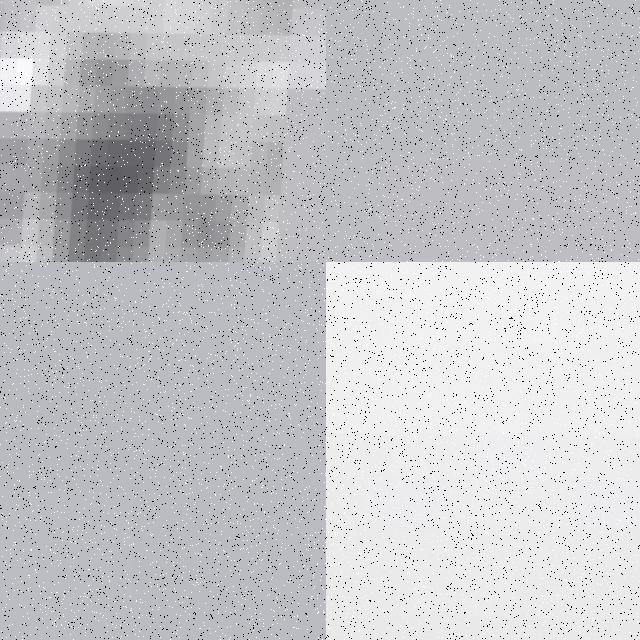drone: (326, 262, 640, 640), (0, 0, 326, 262)
